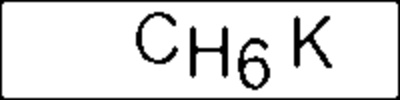6: (236, 36, 275, 92)
C: (136, 10, 184, 66)
H: (185, 23, 233, 81)
K: (289, 11, 339, 73)
